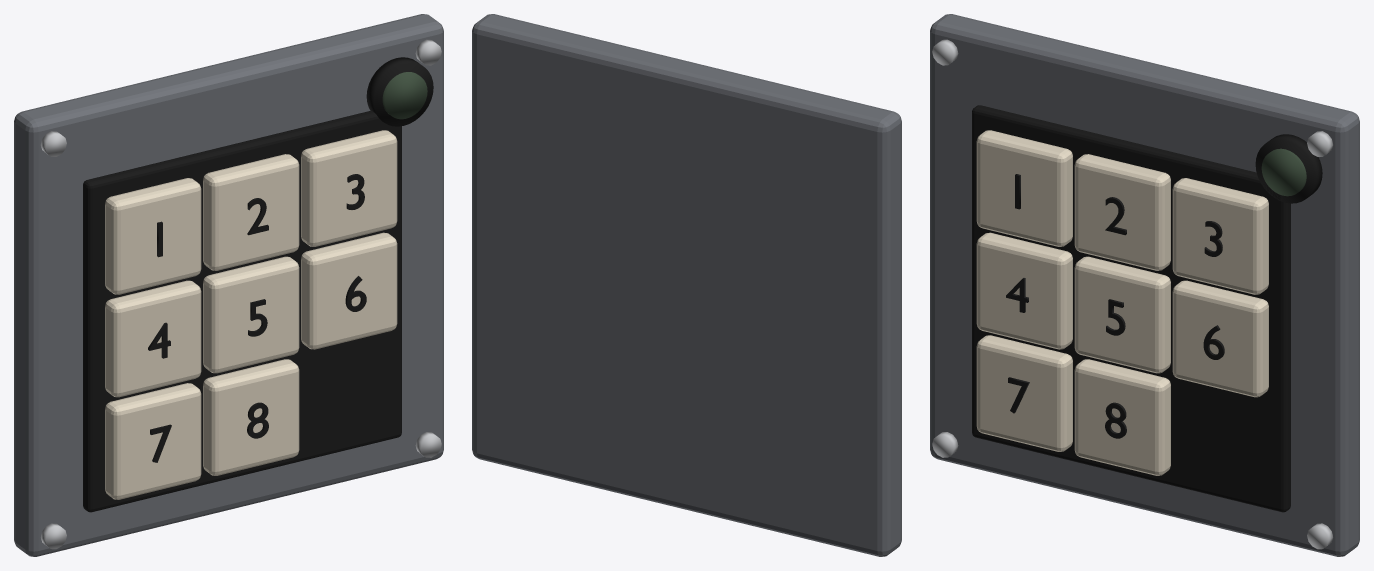
The model's file is slider.glb.
The picture shows the model from 3 angles, left to right: view 1: azimuth 30°, elevation 25°; view 2: azimuth 150°, elevation 25°; view 3: azimuth 330°, elevation 25°; orthographic projection.
Visible parts, largest first — view 1: slider_Plate, slider_Tray, slider_Tile00, slider_Tile20, slider_Tile02, slider_Tile11, slider_Tile10, slider_Tile01, slider_Tile12, slider_Tile21, slider_StatusRing, slider_StatusLED (+4 smaller); view 2: slider_Plate; view 3: slider_Plate, slider_Tray, slider_Tile00, slider_Tile20, slider_Tile01, slider_Tile02, slider_Tile10, slider_Tile11, slider_Tile12, slider_Tile21, slider_StatusRing, slider_StatusLED (+4 smaller).
Boxes of the visible parts, x1,y1,x2,y2 form: slider_Plate: (14, 14, 443, 556); slider_Tray: (83, 110, 401, 512); slider_Tile00: (105, 178, 201, 294); slider_Tile20: (105, 383, 201, 499); slider_Tile02: (301, 130, 397, 246); slider_Tile11: (203, 256, 299, 373); slider_Tile10: (105, 280, 201, 397); slider_Tile01: (203, 154, 299, 270); slider_Tile12: (301, 232, 397, 349); slider_Tile21: (203, 359, 299, 475); slider_StatusRing: (366, 57, 433, 126); slider_StatusLED: (382, 72, 427, 119); slider_Plate: (472, 14, 901, 556); slider_Plate: (930, 14, 1359, 556); slider_Tray: (972, 105, 1290, 512); slider_Tile00: (976, 130, 1072, 246); slider_Tile20: (976, 335, 1072, 451); slider_Tile01: (1074, 154, 1170, 270); slider_Tile02: (1172, 178, 1268, 294); slider_Tile10: (976, 232, 1072, 349); slider_Tile11: (1074, 256, 1170, 373); slider_Tile12: (1172, 280, 1268, 397); slider_Tile21: (1074, 359, 1170, 475); slider_StatusRing: (1255, 134, 1322, 203); slider_StatusLED: (1261, 148, 1306, 196).
Size of the model in its own units: 0.98 by 0.98 by 0.161.
